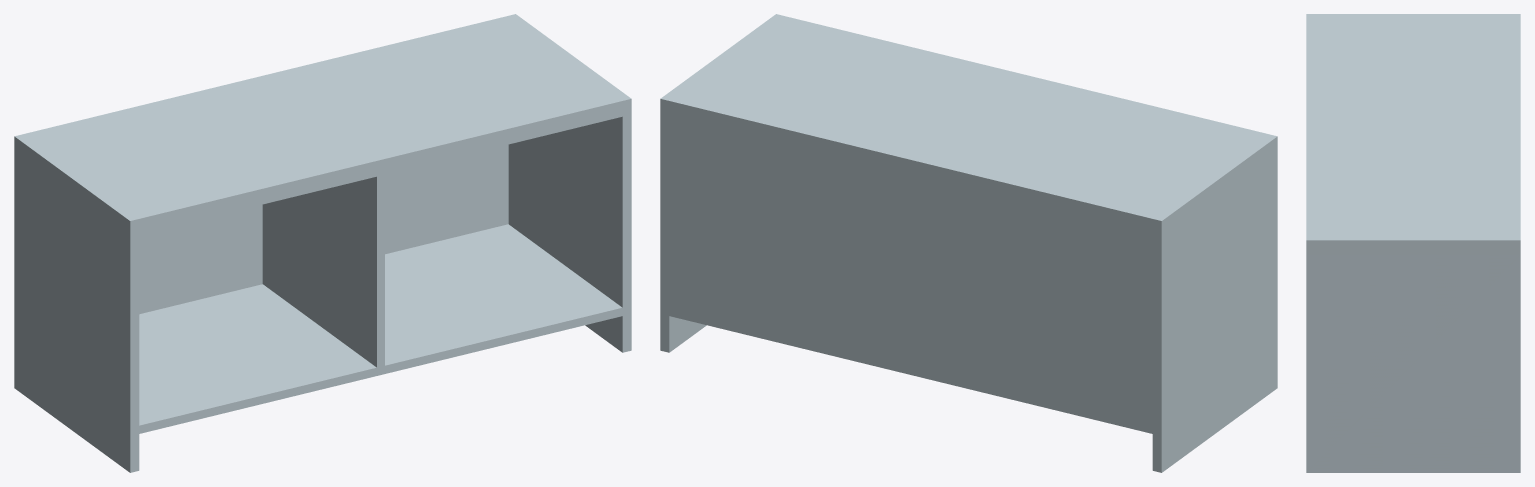
Rendered from assembly.glb.
The picture shows the model from 3 angles, left to right: view 1: azimuth 30°, elevation 25°; view 2: azimuth 150°, elevation 25°; view 3: azimuth 270°, elevation 25°; orthographic projection. The views are drawn at different scales.
Parts seen in each view (by area): view 1: tapa, base_elevada, lateral_izquierdo, trasera, lateral_derecho, divisor_central; view 2: trasera, tapa, lateral_izquierdo, base_elevada, lateral_derecho; view 3: tapa, lateral_derecho.
Boxes of the visible parts, bbox=[...] form: tapa: bbox=[14, 14, 631, 236]; base_elevada: bbox=[139, 224, 622, 433]; lateral_izquierdo: bbox=[14, 152, 139, 472]; trasera: bbox=[139, 144, 508, 314]; lateral_derecho: bbox=[508, 114, 631, 352]; divisor_central: bbox=[262, 174, 384, 367]; trasera: bbox=[669, 116, 1152, 425]; tapa: bbox=[660, 14, 1277, 236]; lateral_izquierdo: bbox=[1152, 152, 1277, 472]; base_elevada: bbox=[669, 307, 1152, 433]; lateral_derecho: bbox=[660, 114, 706, 352]; tapa: bbox=[1306, 14, 1520, 254]; lateral_derecho: bbox=[1306, 254, 1520, 472].
Size of the model in its own units: 1 by 0.48 by 0.4.
